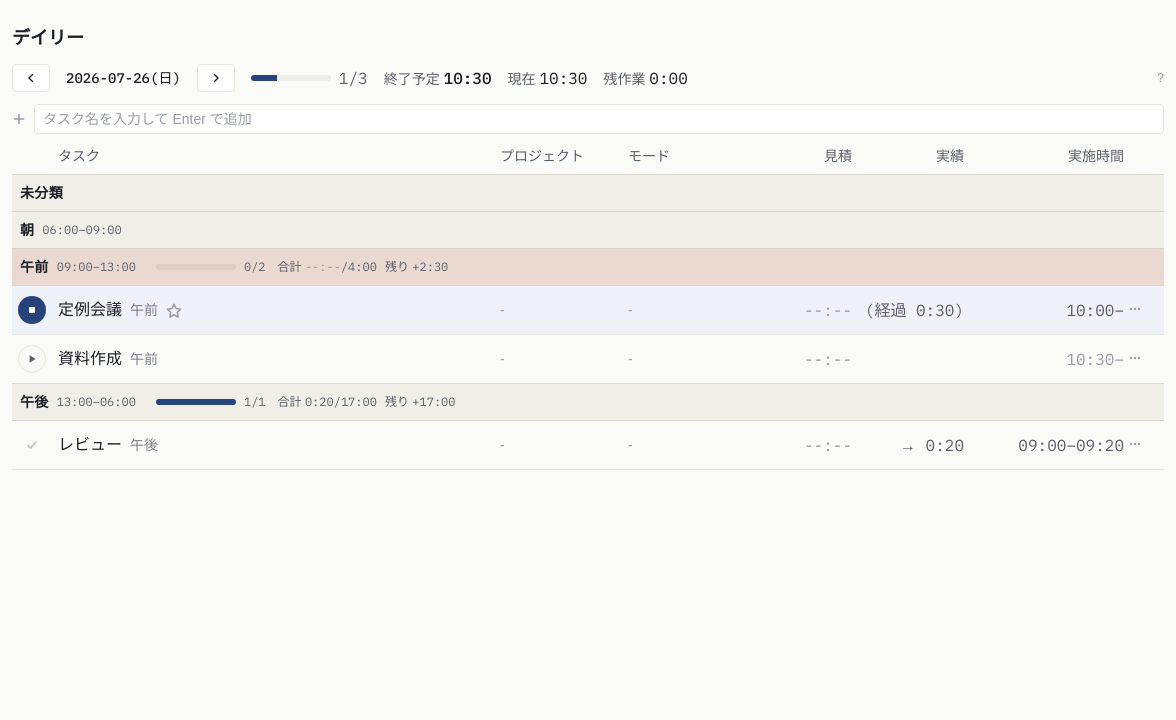
it: DailyBoard のインライン編集の検証（§8 / 00_共通 §2.3） › 未実行タスクへのまとめての入力が未来なら送らずエラートーストを出す（§8）
Click the row "資料作成". click: x=588, y=359
box: [12,334,1164,384]
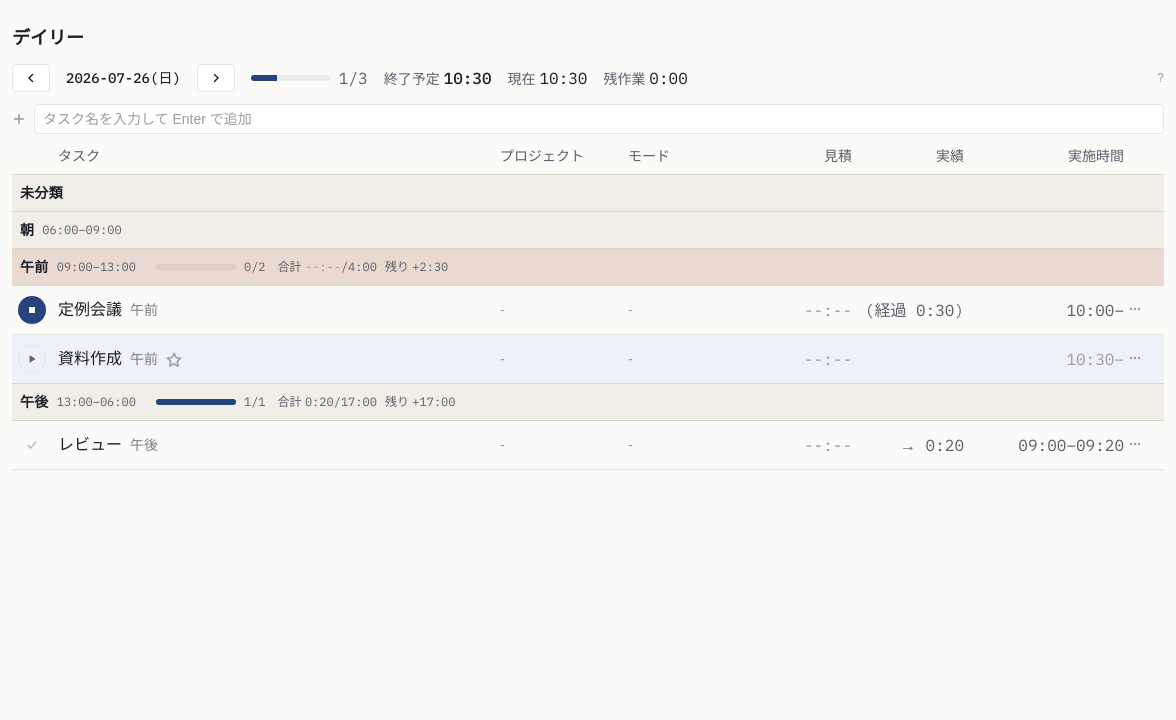
Press f
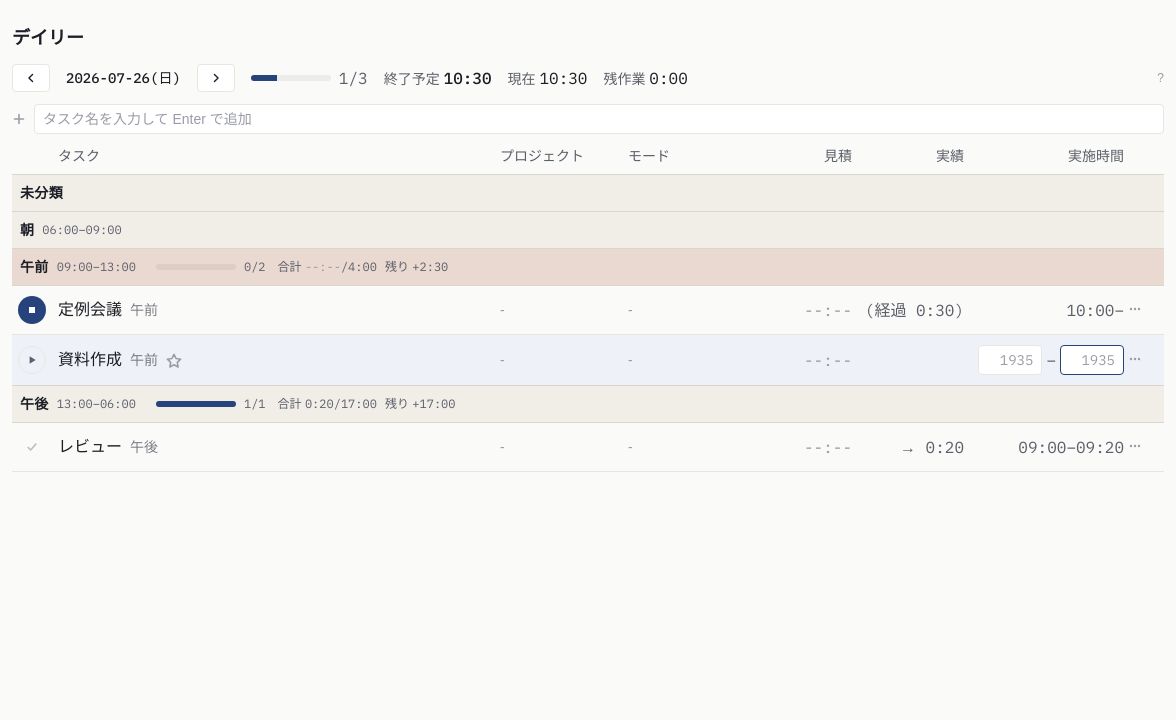
Type "1000" into the field named "開始時刻". click: x=1010, y=360
box: [978,345,1042,375]
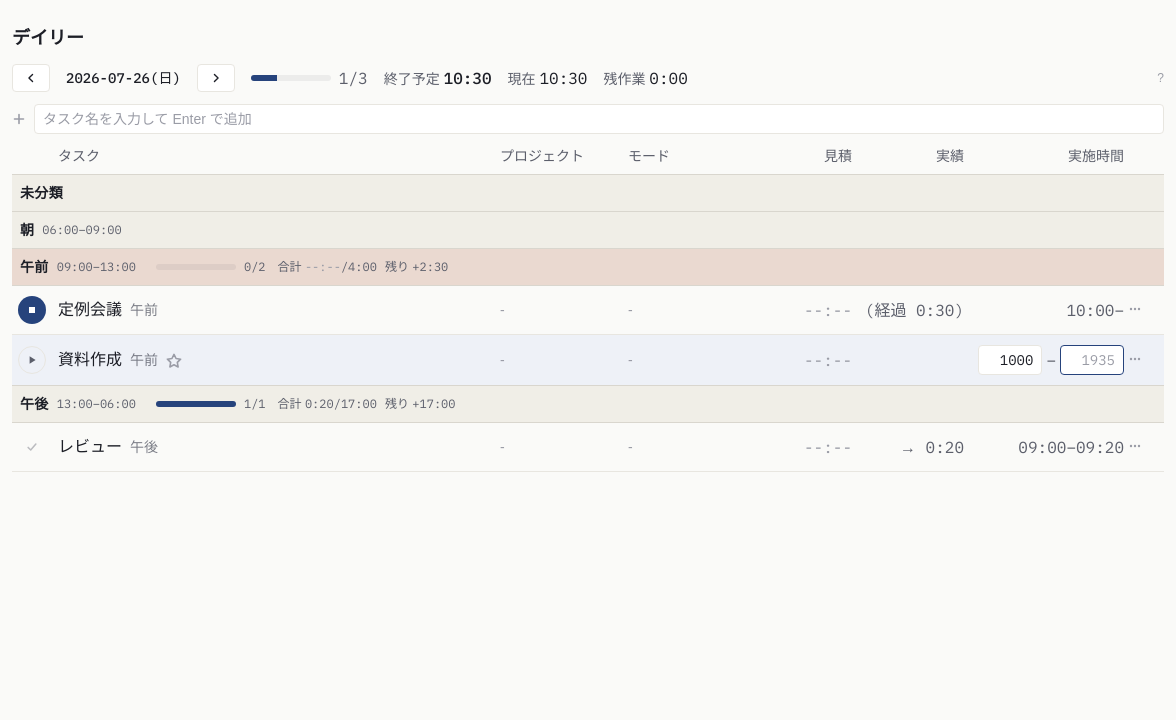
Type "1100" into the field named "終了時刻". click: x=1092, y=360
box: [1060,345,1124,375]
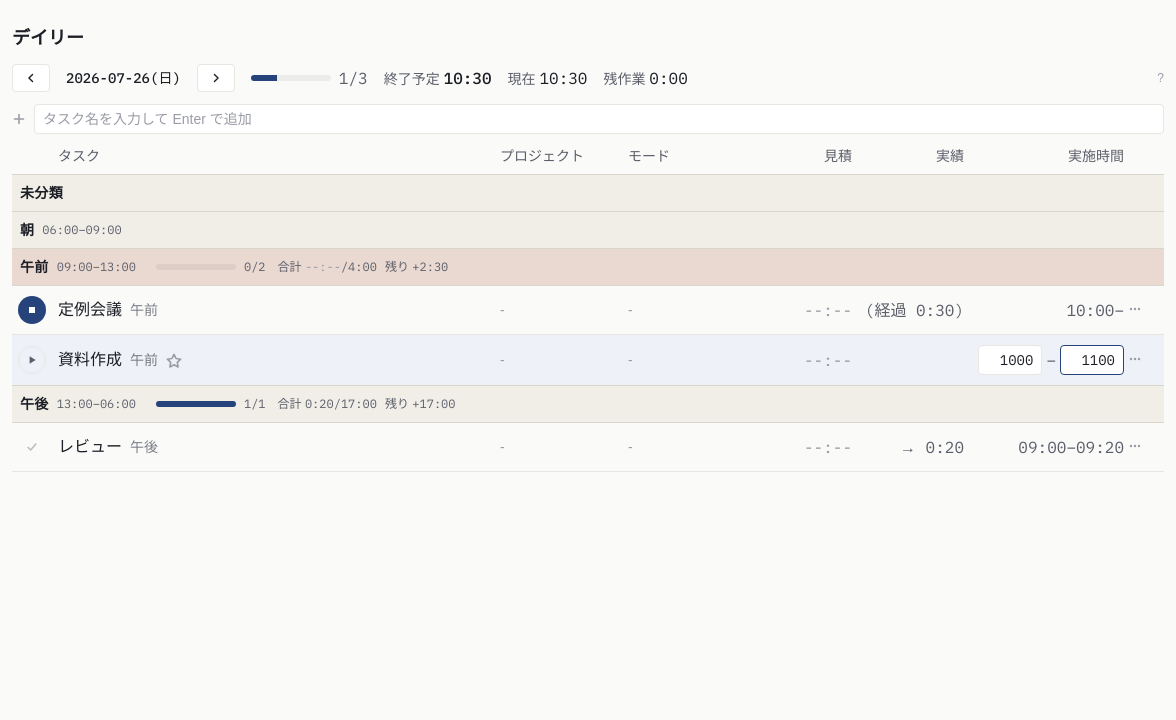
Press Enter in the field named "終了時刻", box [1060,345,1124,375]
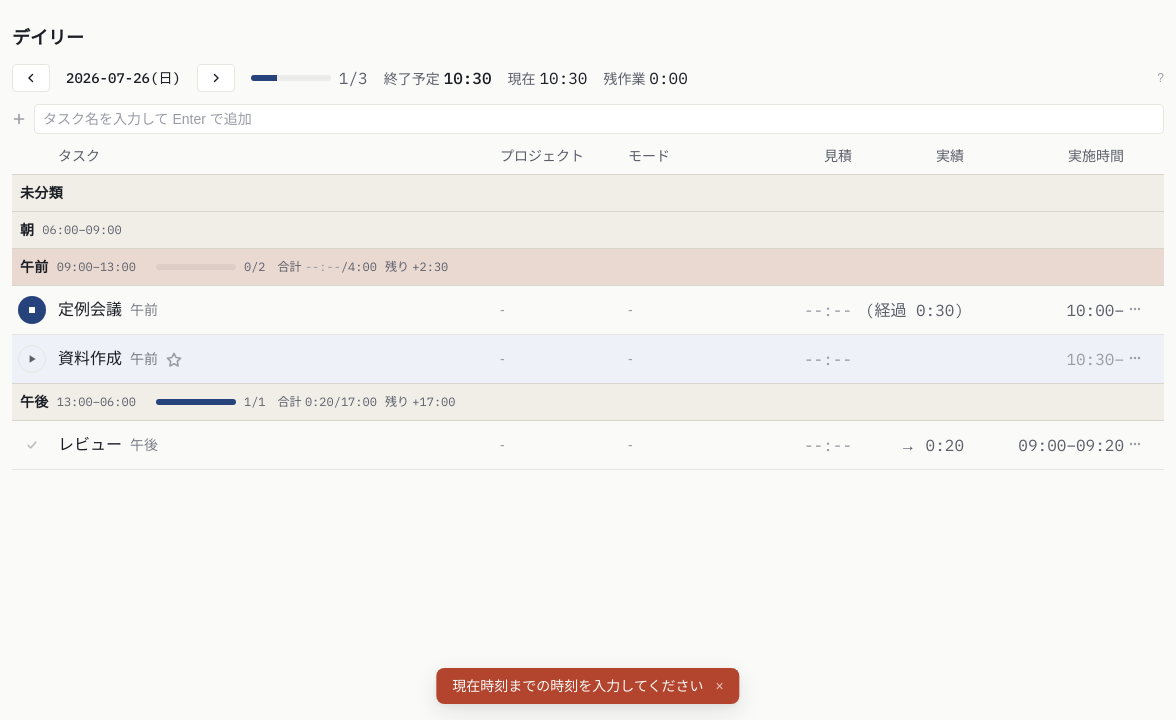
Expected: the text "現在時刻までの時刻を入力してください" is shown, [452,676,704,696]
